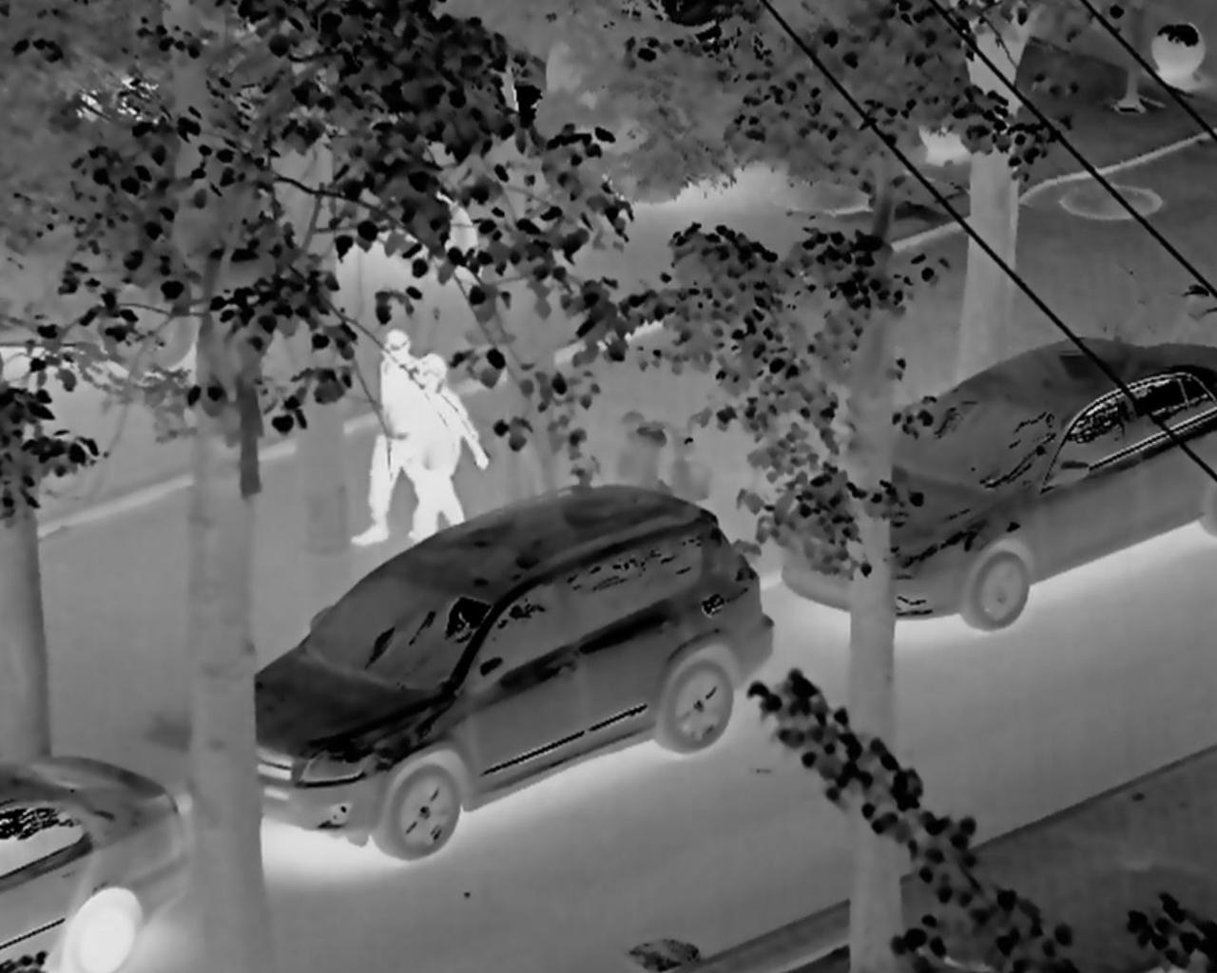person: (355, 318, 428, 554), (409, 349, 492, 545)
